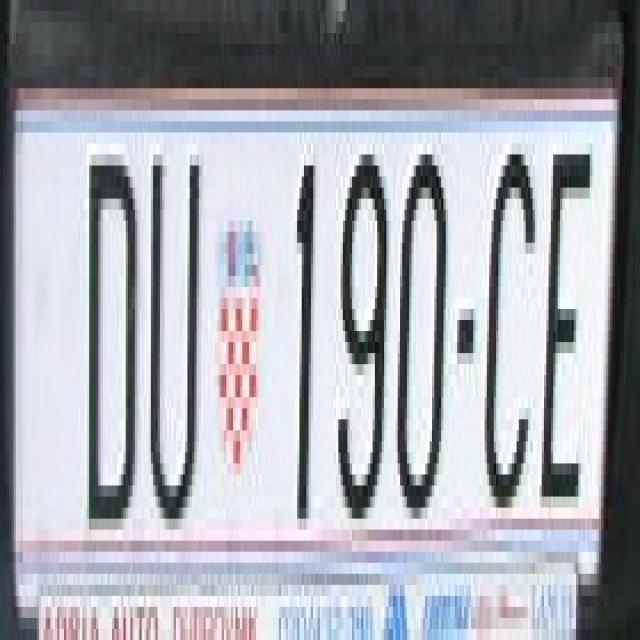0: (396, 155, 446, 530)
1: (292, 155, 318, 530)
9: (336, 144, 384, 518)
C: (484, 154, 532, 496)
D: (86, 144, 138, 496)
E: (544, 154, 592, 496)
U: (146, 132, 199, 508)
